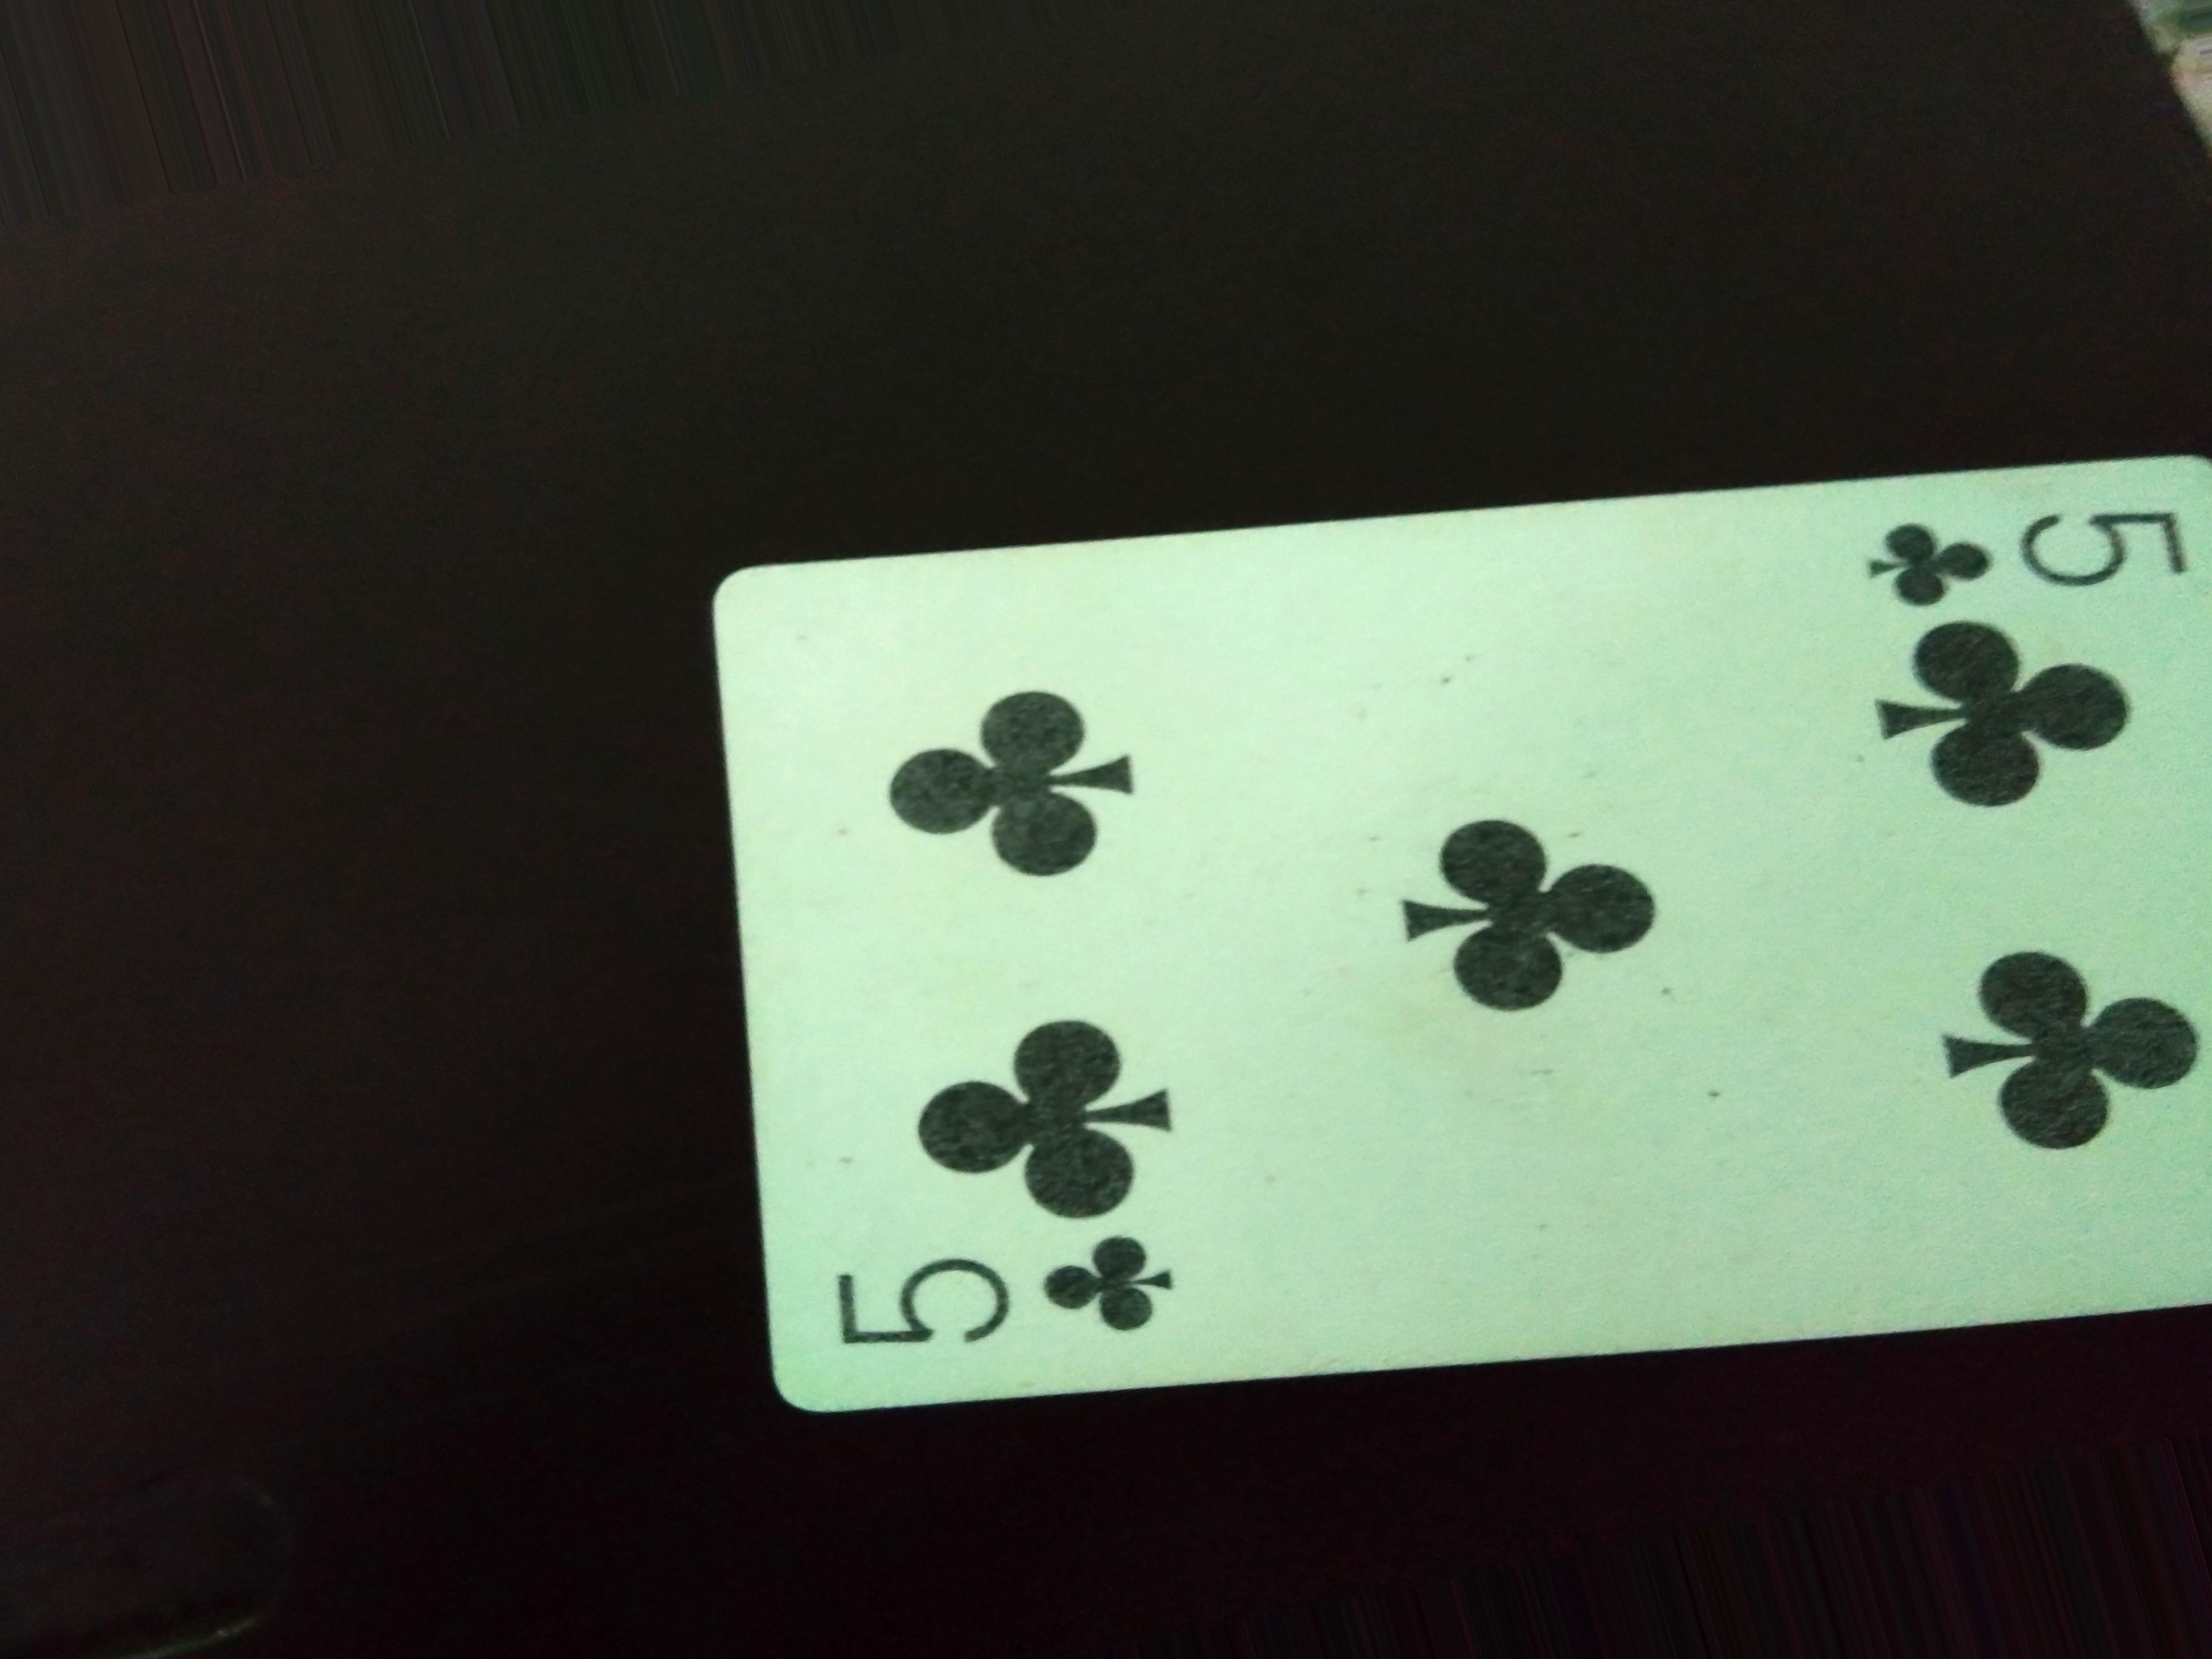5C: (791, 1225, 1191, 1373)
